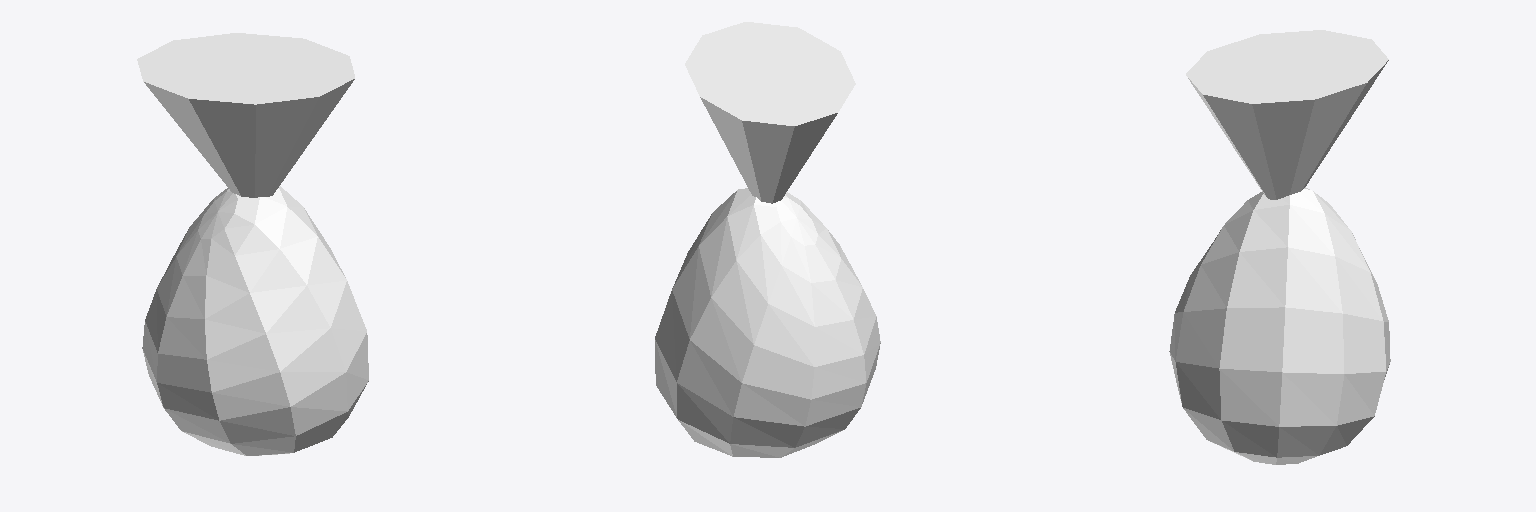
The model's file is fishy.obj.
3 views of the same model, side by side, from view 1: azimuth 30°, elevation 25°; view 2: azimuth 150°, elevation 25°; view 3: azimuth 270°, elevation 25° (orthographic).
Parts seen in each view (by area): view 1: 001_, 000_Default_StructuredGeometry_Name; view 2: 001_, 000_Default_StructuredGeometry_Name; view 3: 001_, 000_Default_StructuredGeometry_Name.
Part boxes in pixels (bbox=[...]): 001_: bbox=[142, 186, 368, 455]; 000_Default_StructuredGeometry_Name: bbox=[137, 33, 354, 197]; 001_: bbox=[655, 188, 880, 457]; 000_Default_StructuredGeometry_Name: bbox=[685, 22, 855, 203]; 001_: bbox=[1169, 187, 1390, 464]; 000_Default_StructuredGeometry_Name: bbox=[1186, 30, 1388, 199].
Bounding box in the file's own units: 145 × 268 × 141.